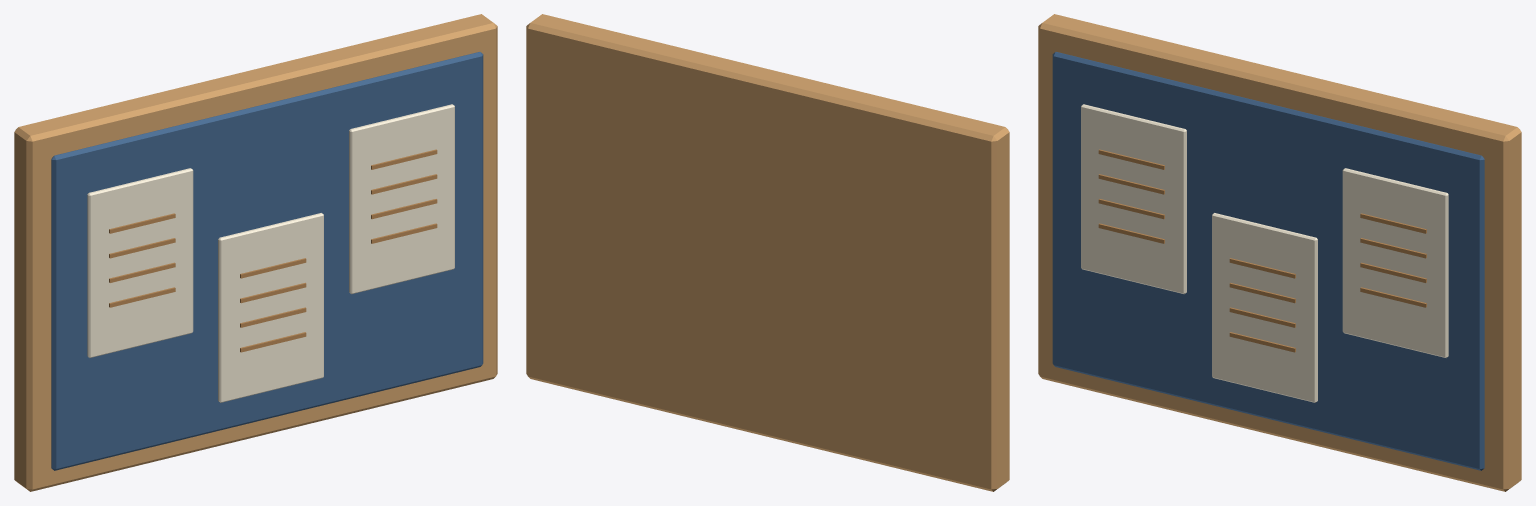
The model's file is noticeboard.glb.
The picture shows the model from 3 angles, left to right: view 1: azimuth 30°, elevation 25°; view 2: azimuth 150°, elevation 25°; view 3: azimuth 330°, elevation 25°; orthographic projection.
Parts seen in each view (by area): view 1: noticeboard; view 2: noticeboard; view 3: noticeboard.
Part boxes in pixels (<box>): noticeboard: <box>14,14,497,491</box>; noticeboard: <box>526,14,1009,491</box>; noticeboard: <box>1038,14,1521,491</box>.
Bounding box in the file's own units: 1.8 × 1.3 × 0.1725.
